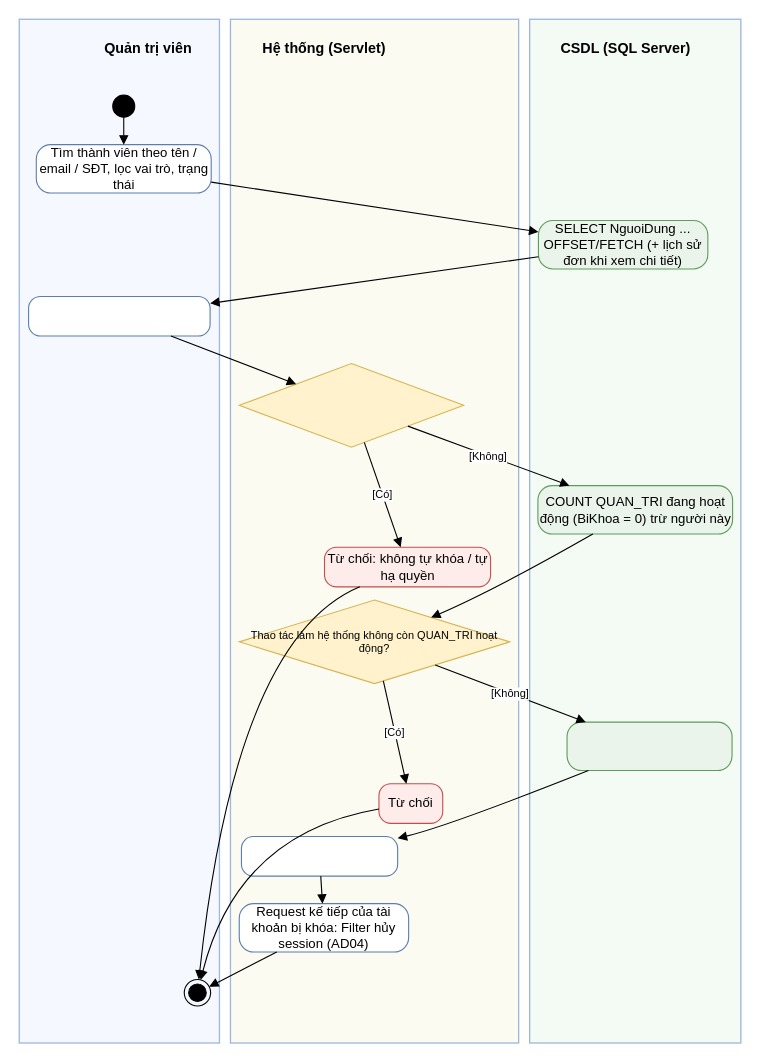
Image size: 761x1063. Some labels were removed from this diagram. The shapes that lost their labels are listed below. From the top down, each one's box as (x1, y1, x2, y2) in pixels, then its label:
(28, 295, 210, 336): Chọn Khóa / Mở khóa / Đổi vai trò
(238, 362, 464, 447): Đối tượng là chính admin đang đăng nhập?
(566, 721, 732, 771): UPDATE NguoiDung SET BiKhoa / VaiTro, NgayCapNhat
(240, 835, 398, 876): Thông báo thành công
